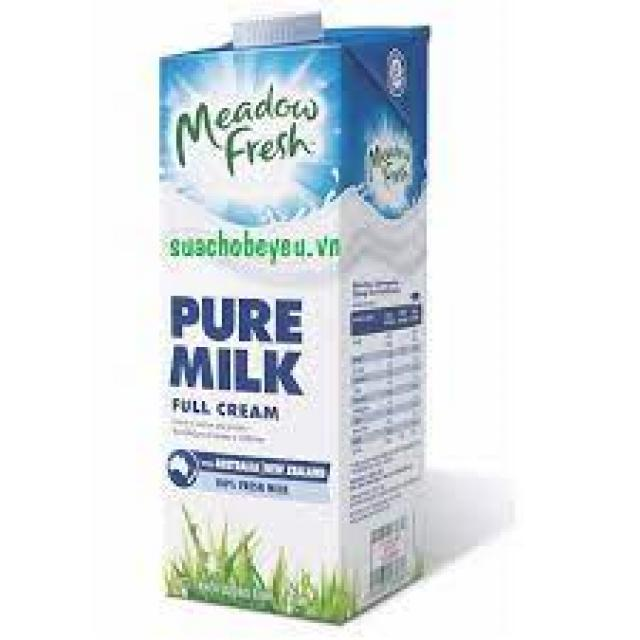non_white_jug: (154, 1, 460, 616)
